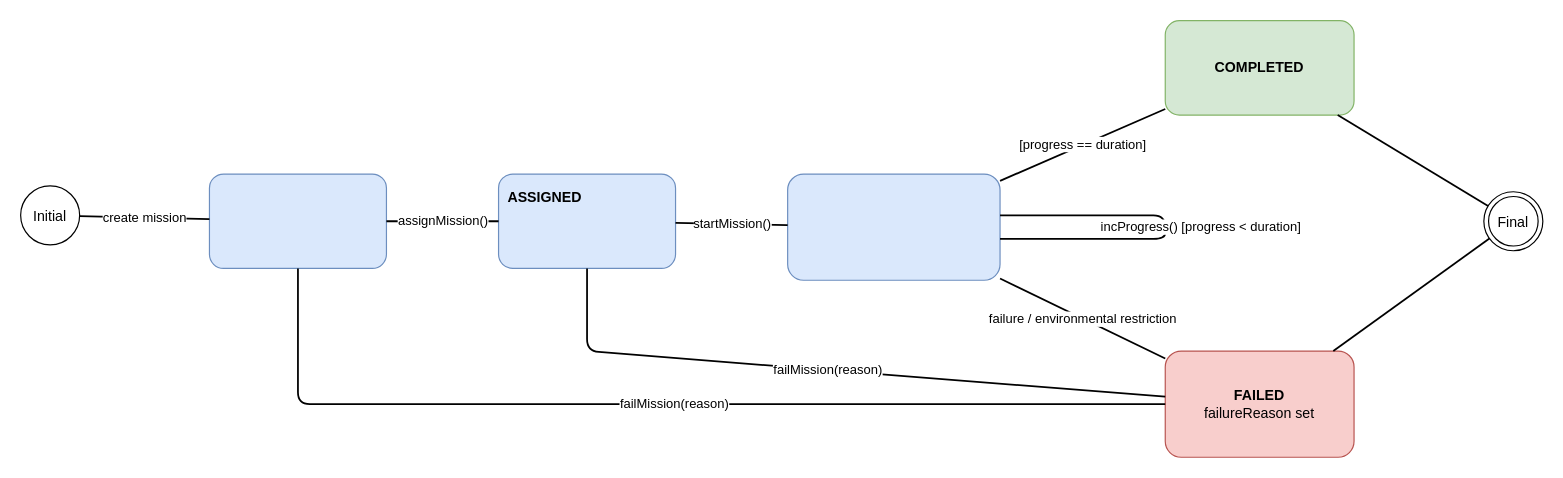
The diagram is 1563 pixels wide and 478 high, and some of its shapes have lost their labels. The box of each missing label's shape, as (x1, y1, x2, y2) in pixels:
CREATED status = null: (208, 173, 386, 268)
IN_PROGRESS progress < duration: (786, 173, 1000, 280)
